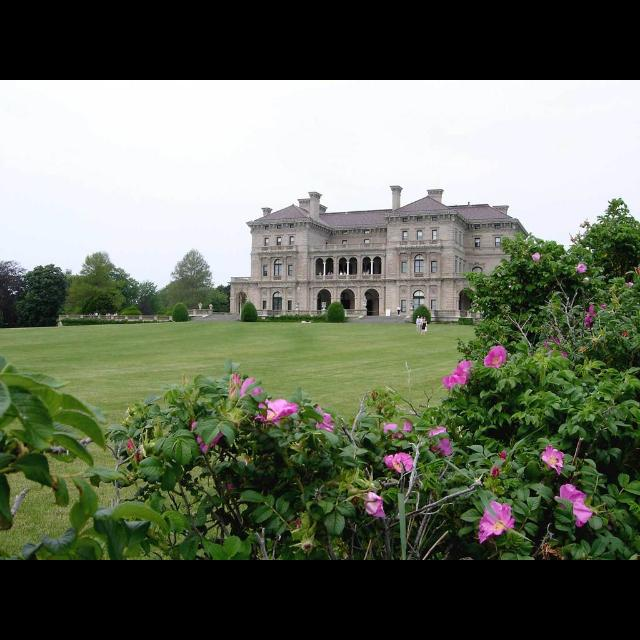Flower: (476, 496, 514, 548), (188, 418, 232, 456), (554, 484, 594, 524), (220, 372, 264, 406), (255, 398, 299, 428), (352, 487, 386, 521), (444, 359, 480, 391), (420, 424, 454, 456), (536, 443, 566, 479), (308, 402, 338, 436), (374, 418, 411, 440), (482, 345, 508, 369), (387, 452, 417, 472), (540, 336, 566, 356), (126, 438, 142, 464), (590, 302, 606, 316), (574, 261, 586, 275), (530, 251, 542, 263), (584, 316, 596, 328), (488, 466, 498, 478), (500, 452, 506, 462)
